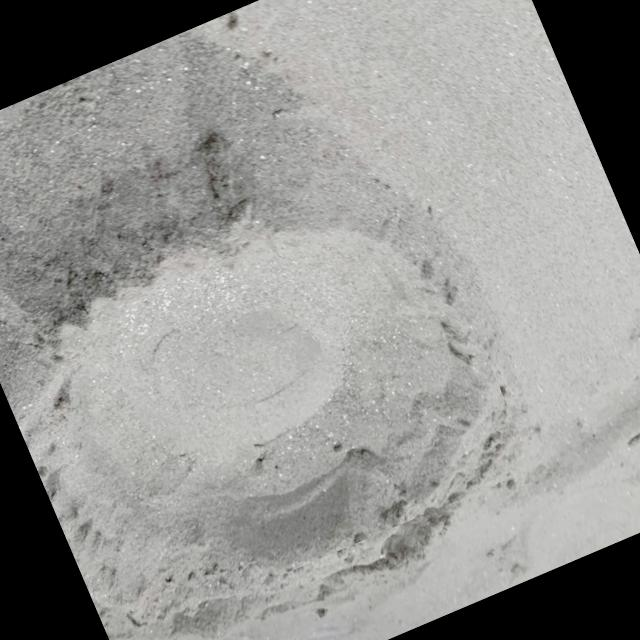C20: (32, 230, 518, 593), (466, 311, 468, 315)
